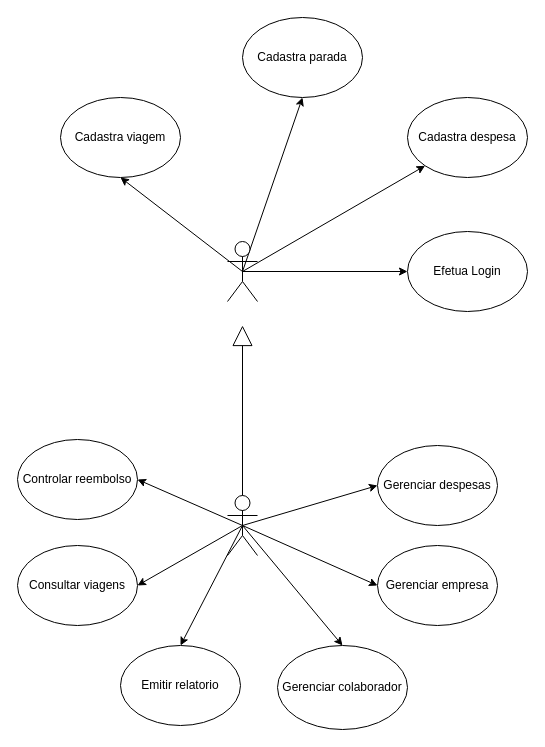
Image size: 545x747. Some labels were removed from this diagram. Each missing label, with the centre of its shape:
"admin" goes at (x=242, y=525).
"colaborador" goes at (x=242, y=271).
